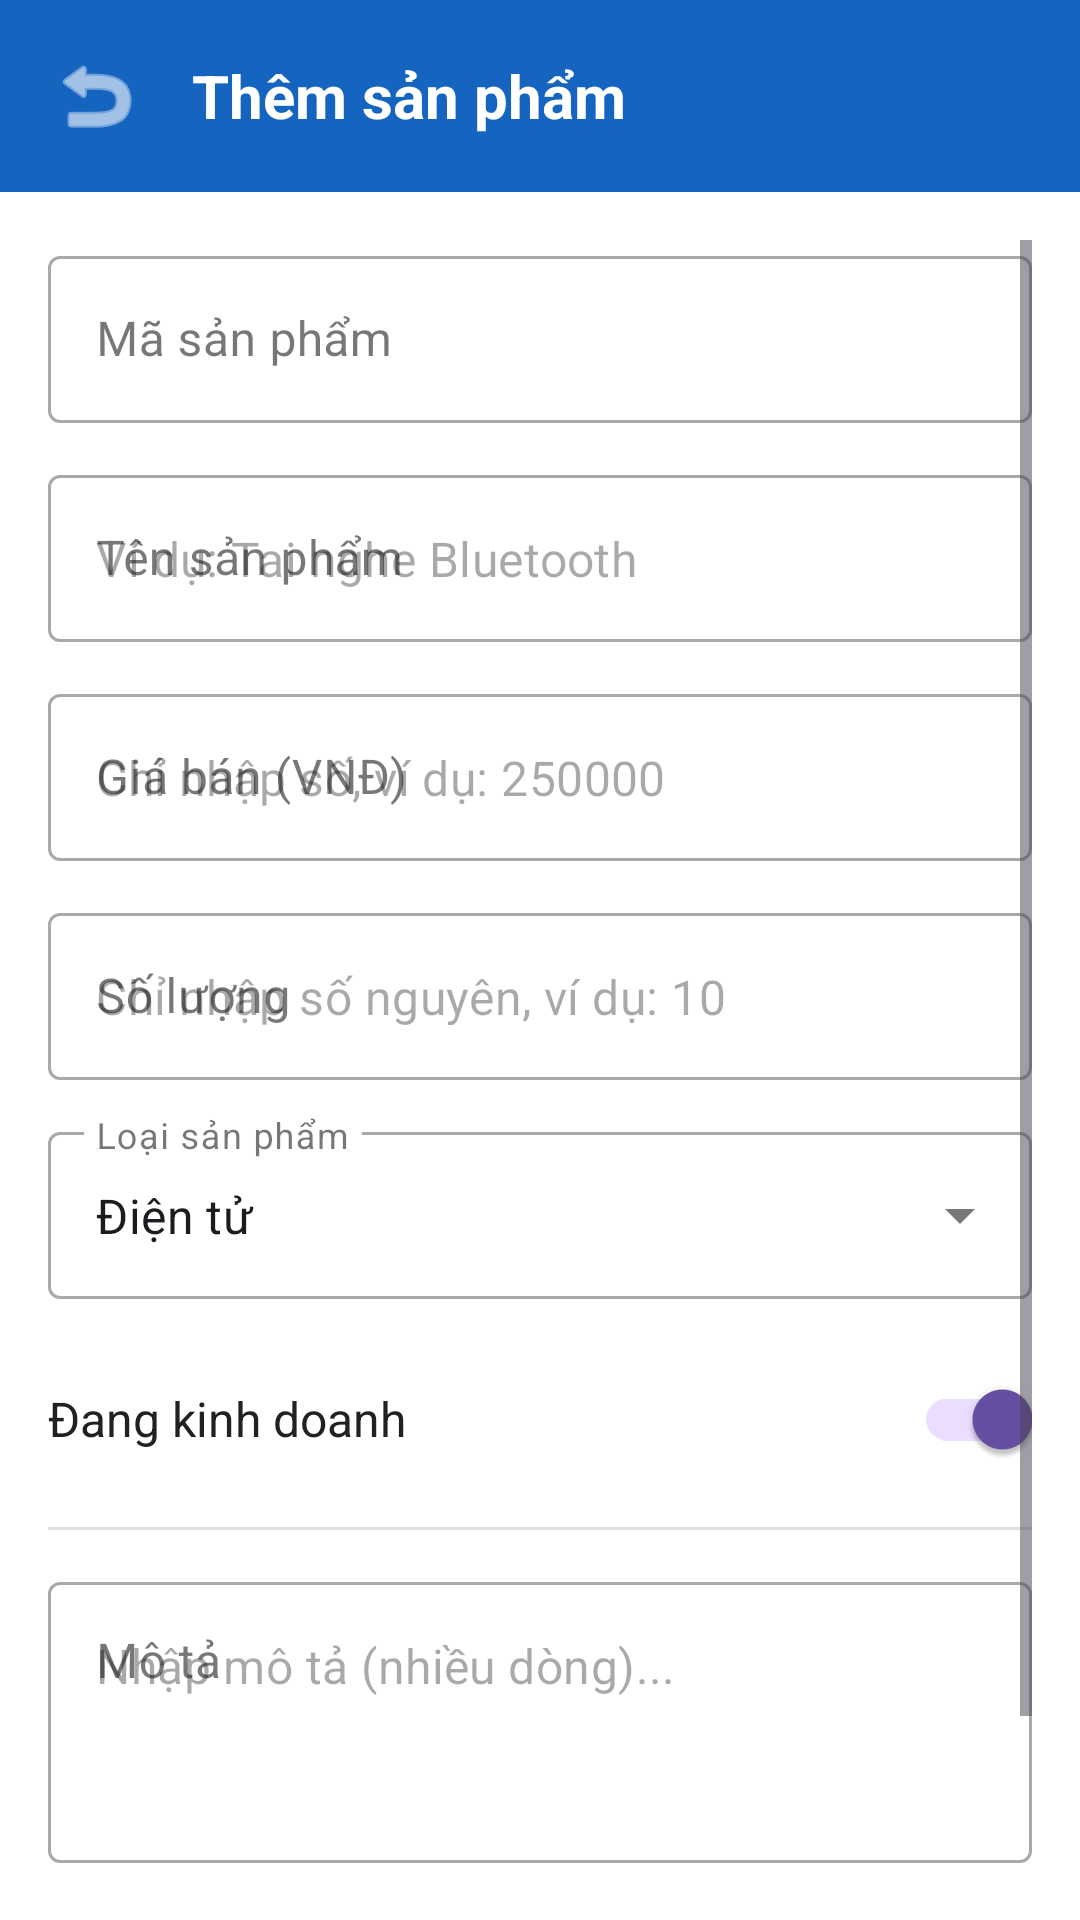

Screen size 1080x1920. Icon name, then its box in pixels as bbox(x1, y1, x2, y2):
revert: bbox(63, 65, 132, 128)
